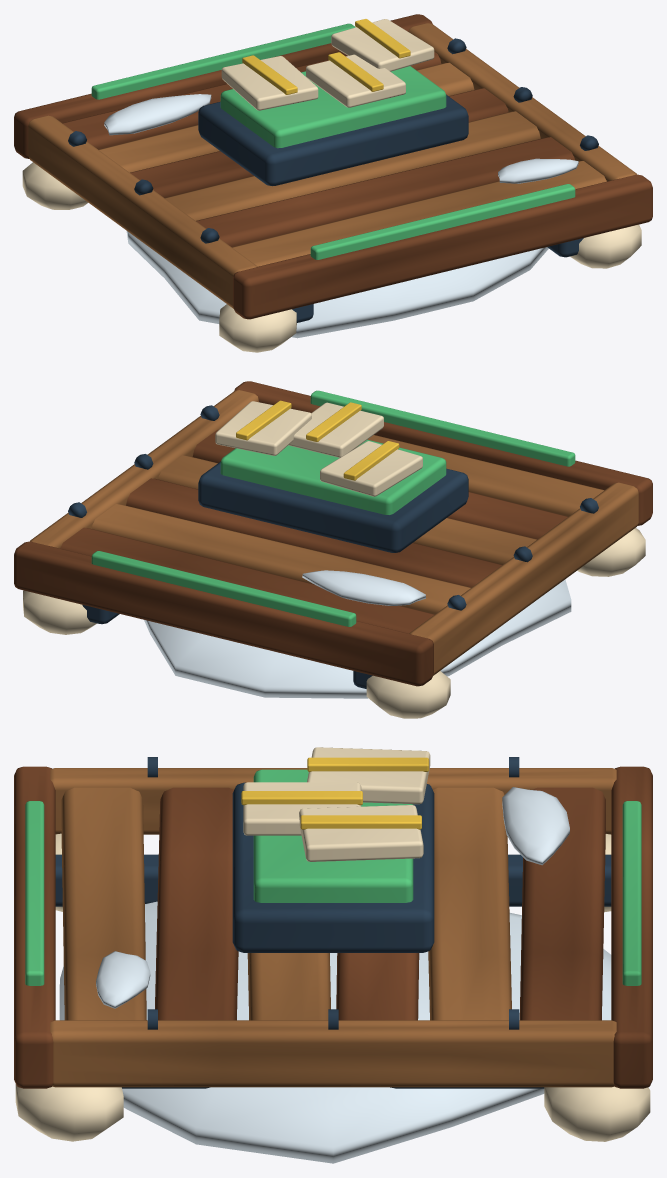
File: pad_payment.glb
The picture shows the model from 3 angles, top to bottom: view 1: azimuth 30°, elevation 25°; view 2: azimuth 150°, elevation 25°; view 3: azimuth 270°, elevation 25°; orthographic projection. The views are drawn at different scales.
Parts seen in each view (by area): view 1: pad_payment; view 2: pad_payment; view 3: pad_payment.
Boxes of the visible parts, left/top/right/bottom form: pad_payment: left=14, top=14, right=652, bottom=352; pad_payment: left=14, top=381, right=652, bottom=718; pad_payment: left=14, top=747, right=652, bottom=1163.
Bounding box in the file's own units: 1.91 × 0.813 × 1.84.
